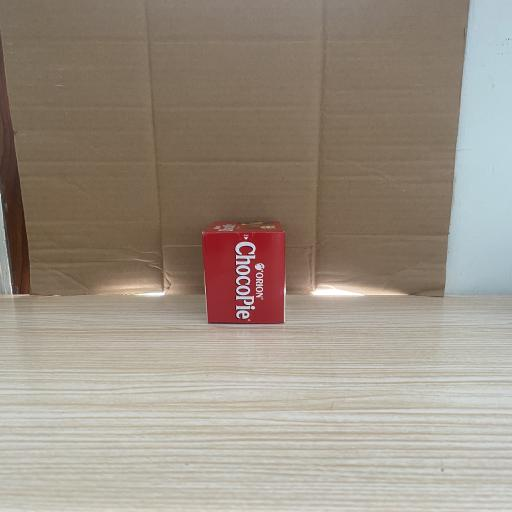chocopie: (202, 221, 286, 324)
